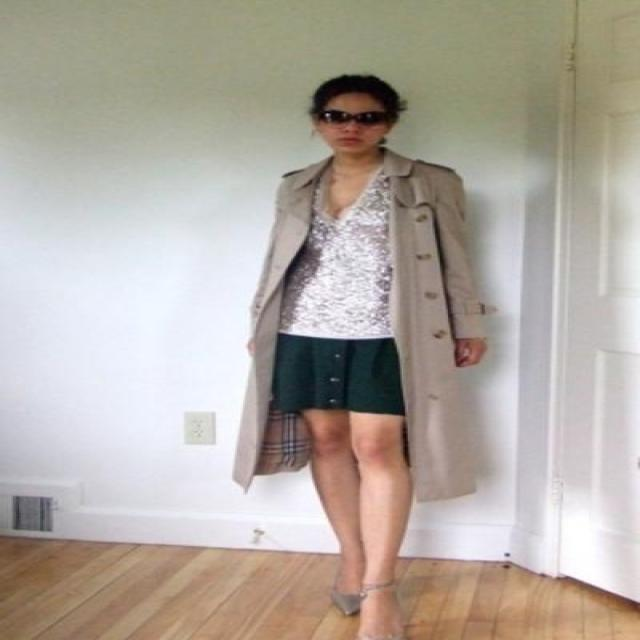jacket: (232, 152, 502, 502)
shirt: (267, 171, 398, 338)
skirt: (268, 333, 402, 419)
